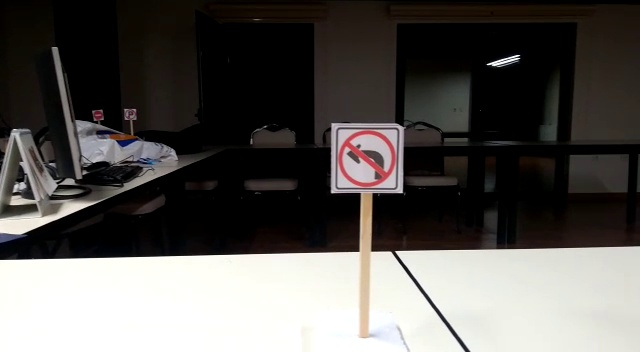sola_donulmez: (334, 129, 398, 189)
